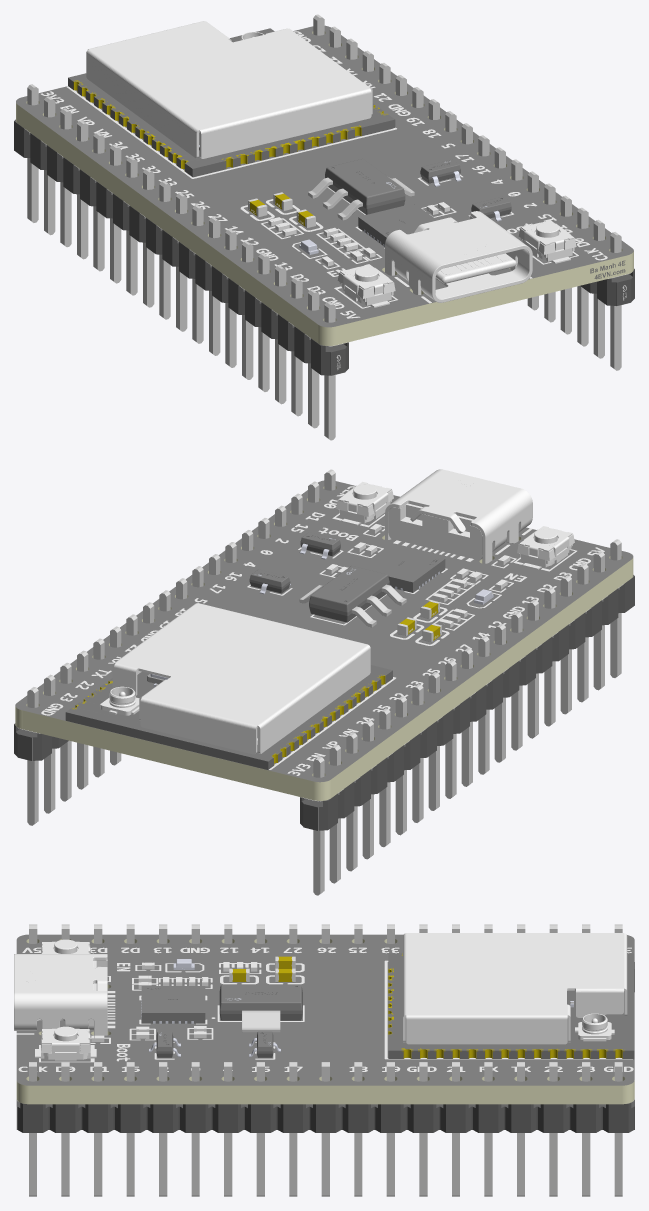
3 renders of one model, top to bottom at view 1: azimuth 30°, elevation 25°; view 2: azimuth 150°, elevation 25°; view 3: azimuth 270°, elevation 25°, orthographic.
Visible parts, largest first — view 1: Node3, Node9, Node14, Node12, Node10, Node2, Node11, Node4, Node1, Node19; view 2: Node3, Node9, Node14, Node12, Node10, Node2, Node11, Node4, Node1, Node19; view 3: Node3, Node14, Node9, Node10, Node12, Node2, Node11, Node1, Node4, Node19, Node15, Node5.
Part boxes in pixels (x1,y1,x2,y2): Node3: [16, 25, 633, 327]; Node9: [27, 14, 626, 440]; Node14: [86, 21, 372, 360]; Node12: [16, 31, 633, 345]; Node10: [14, 119, 634, 375]; Node2: [25, 34, 631, 346]; Node11: [68, 28, 395, 177]; Node4: [251, 202, 626, 370]; Node1: [41, 31, 607, 318]; Node19: [73, 80, 387, 171]; Node3: [15, 480, 633, 782]; Node9: [27, 469, 621, 895]; Node14: [99, 603, 370, 754]; Node12: [15, 486, 633, 800]; Node10: [14, 575, 634, 830]; Node2: [18, 469, 623, 801]; Node11: [65, 665, 392, 769]; Node4: [326, 481, 574, 638]; Node1: [41, 486, 604, 775]; Node19: [72, 675, 385, 765]; Node3: [16, 934, 634, 1085]; Node14: [403, 933, 627, 1044]; Node9: [16, 924, 622, 1196]; Node10: [16, 962, 634, 1132]; Node12: [16, 939, 634, 1104]; Node2: [14, 954, 622, 1100]; Node11: [388, 953, 634, 1059]; Node1: [16, 947, 633, 1071]; Node4: [35, 939, 257, 1060]; Node19: [388, 953, 624, 1058]; Node15: [232, 956, 292, 981]; Node5: [141, 959, 280, 1057].
Size of the model in its own units: 27.93 by 13.23 by 48.48.
